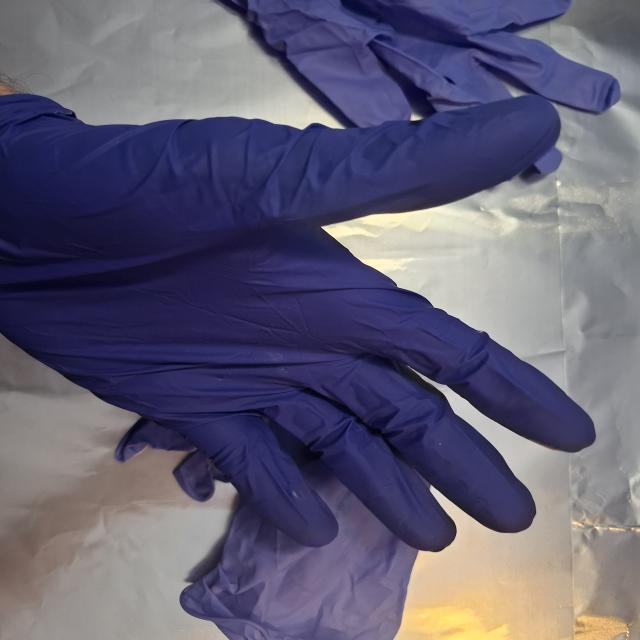glove_on: (0, 89, 601, 554)
